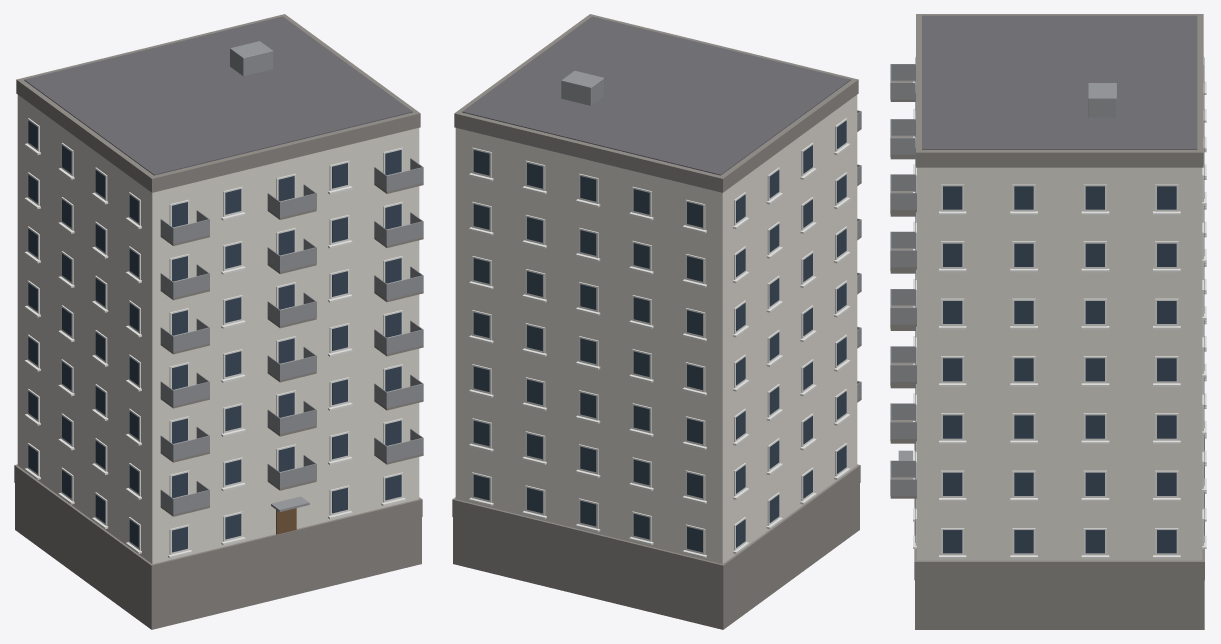
File: house_f.glb
The picture shows the model from 3 angles, left to right: view 1: azimuth 30°, elevation 25°; view 2: azimuth 150°, elevation 25°; view 3: azimuth 270°, elevation 25°; orthographic projection. The views are drawn at different scales.
Visible parts, largest first — view 1: house_f; view 2: house_f; view 3: house_f.
Boxes of the visible parts, bbox=[...] form: house_f: bbox=[14, 14, 423, 629]; house_f: bbox=[452, 14, 861, 629]; house_f: bbox=[890, 14, 1206, 629].
Size of the model in its own units: 16.4 by 26.9 by 15.5.
